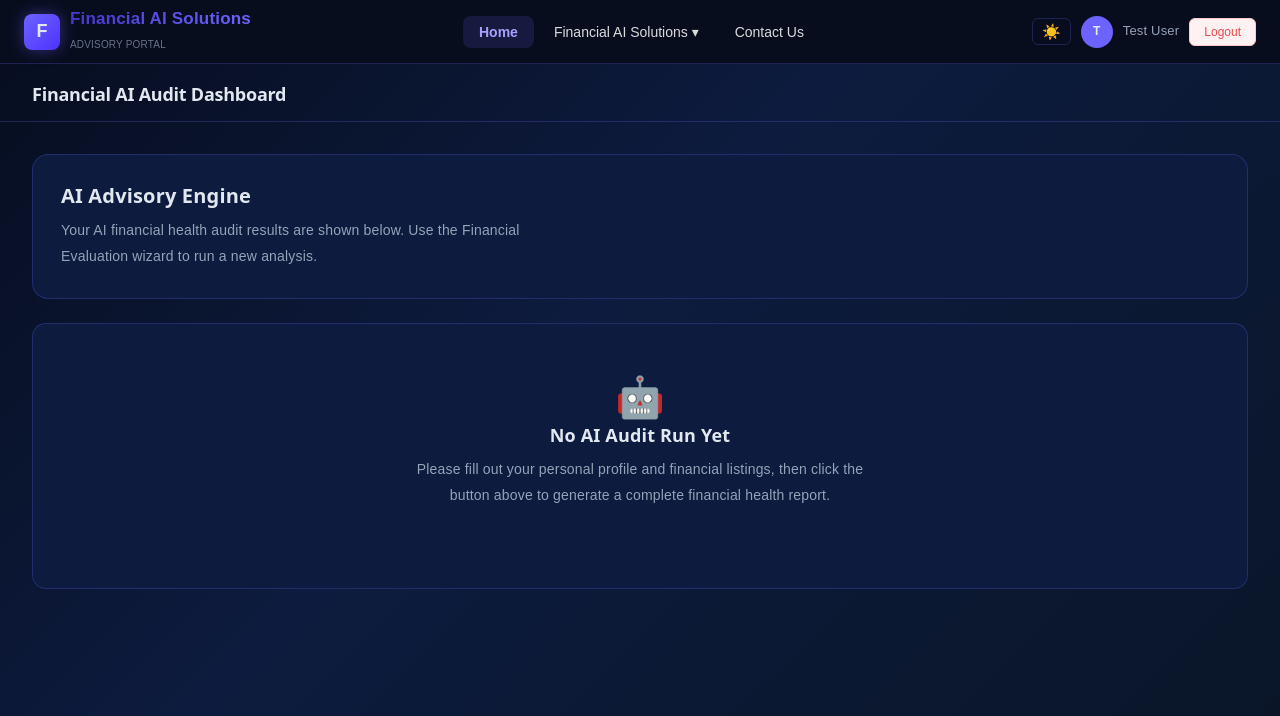
Test: Home – Evaluate Financials wizard › Next button advances to step 2 (Financial Data)
Hover over the element "Financial AI Solutions ▾" at (626, 32), box [538,16,715,48]
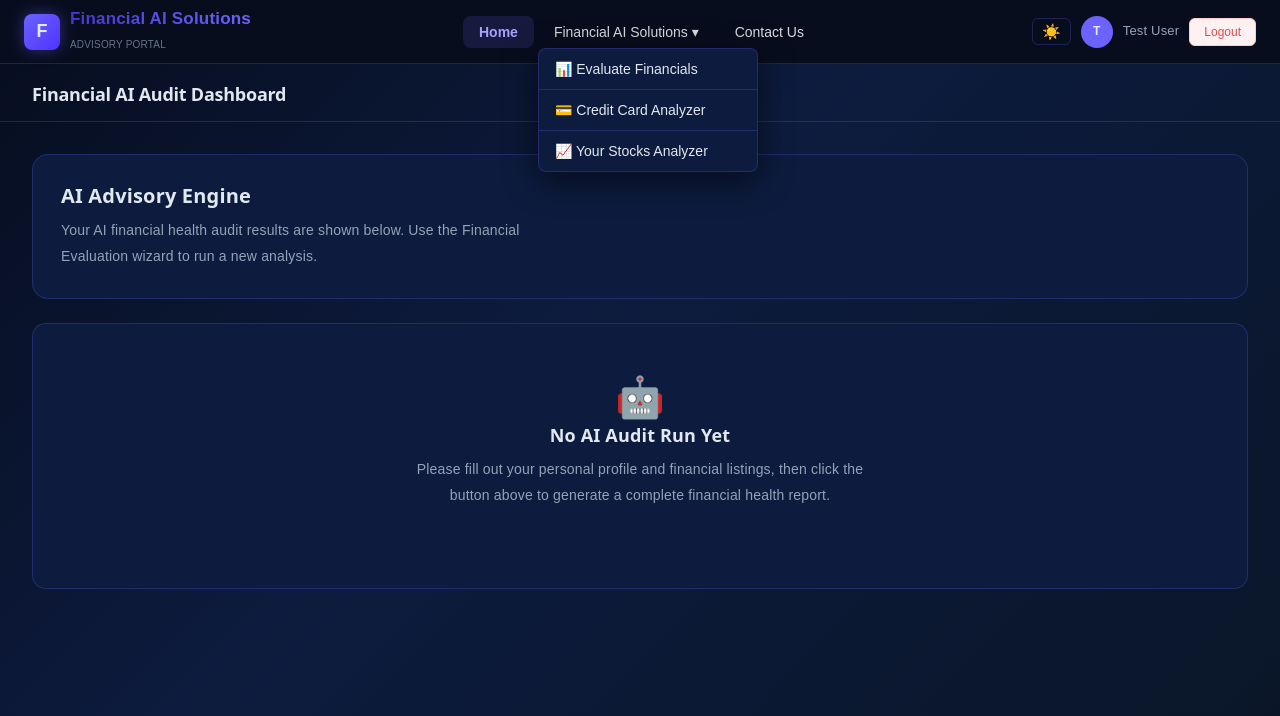
Click the button "📊 Evaluate Financials" at (648, 69), box [539,48,757,90]
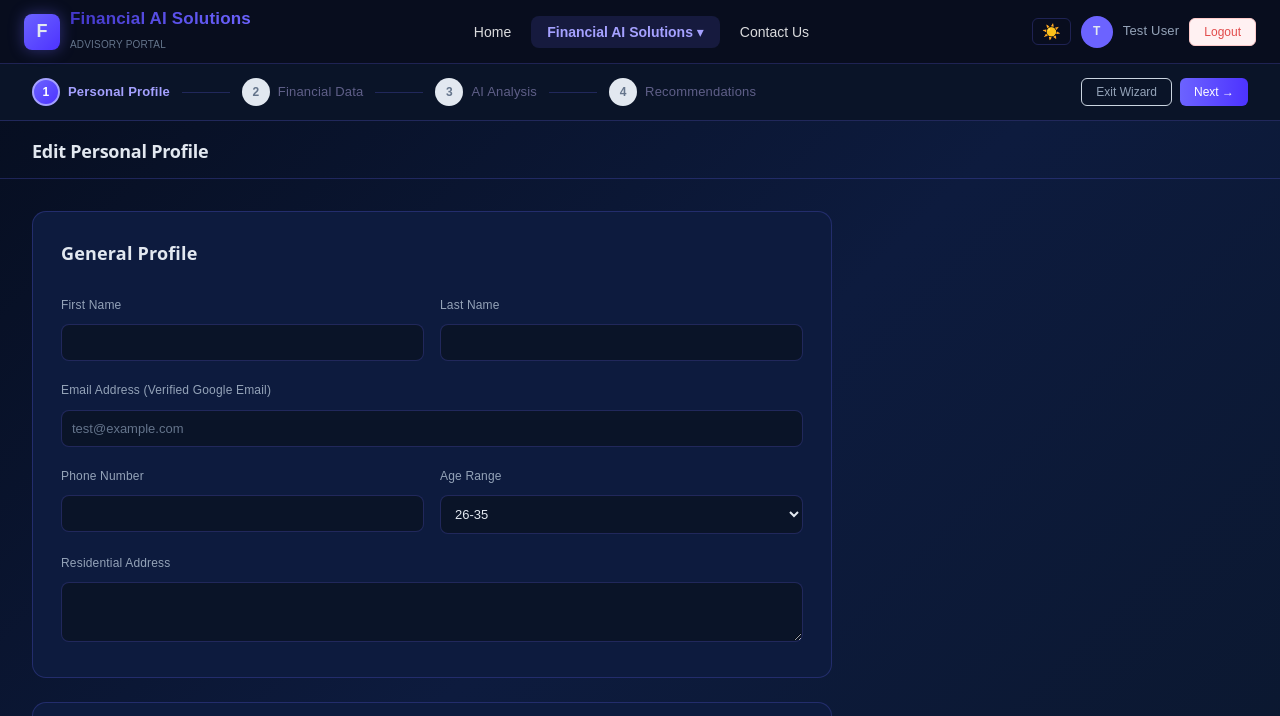
Click the button "Next →" at (1214, 92), box [1180,78,1248,106]
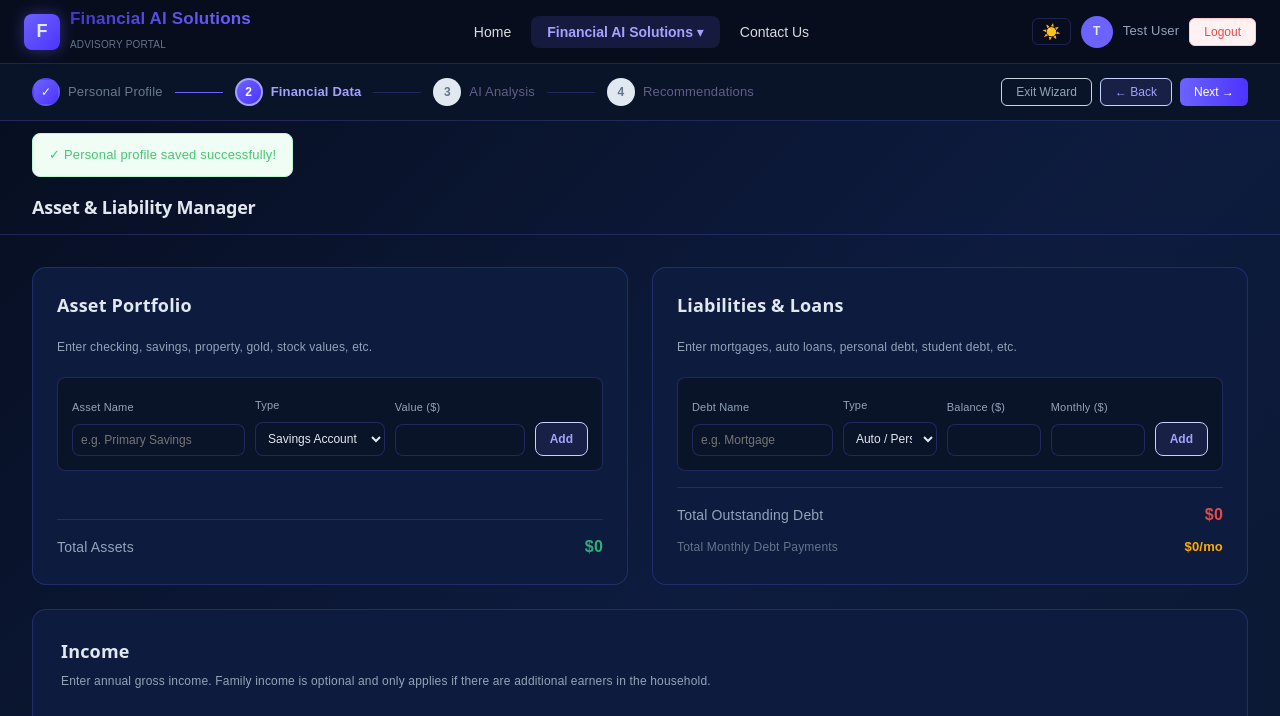
Now the heading "Asset & Liability Manager" is shown, box [32,195,256,219]
